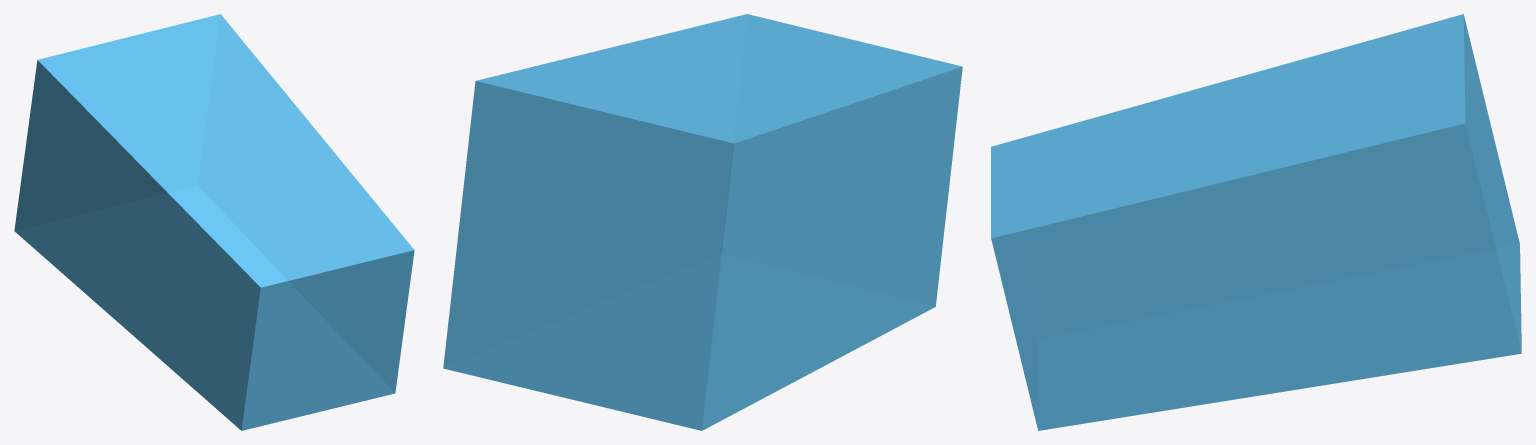
The model's file is Event_421278790_HBrechit_1.fbx.
3 views of the same model, side by side, from view 1: azimuth 30°, elevation 25°; view 2: azimuth 150°, elevation 25°; view 3: azimuth 270°, elevation 25° (orthographic). The views are drawn at different scales.
Parts seen in each view (by area): view 1: Model; view 2: Model; view 3: Model.
Part boxes in pixels (bbox=[...]): Model: bbox=[14, 14, 414, 430]; Model: bbox=[443, 14, 962, 430]; Model: bbox=[991, 14, 1521, 430].
Bounding box in the file's own units: 0.4798 × 0.6269 × 0.9801.
